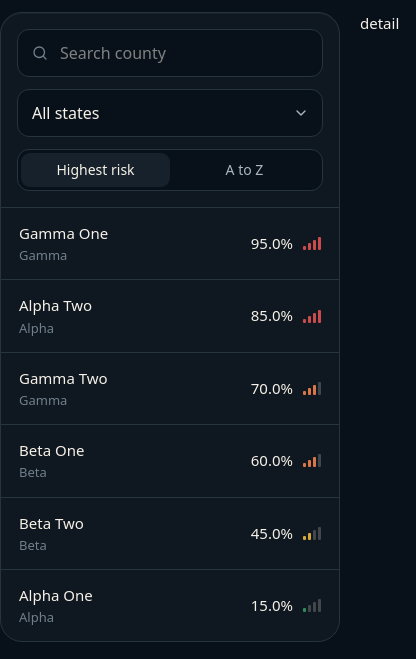
Test: CountiesShell › explains an empty search
The image size is (416, 659).
Type "zzz" into the search field labelled "Search county". click: (170, 53)
box: [17,29,323,77]
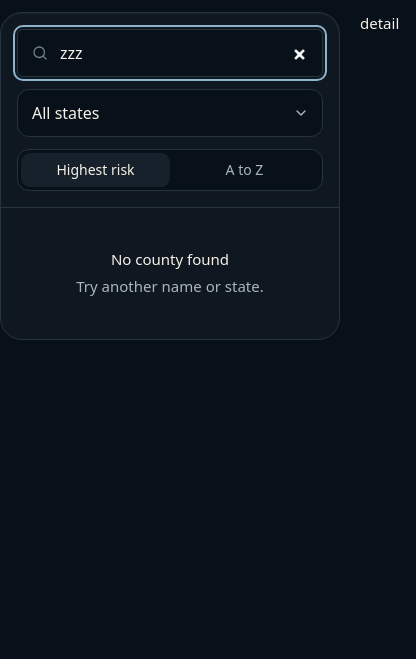
Now the text "No county found" is shown, box [111,249,229,269]
